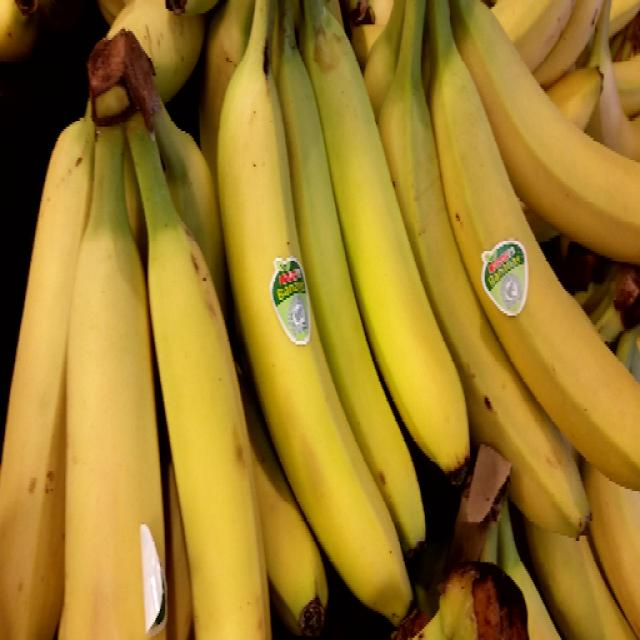banana: (0, 23, 277, 640), (210, 1, 475, 640), (357, 0, 640, 546)
